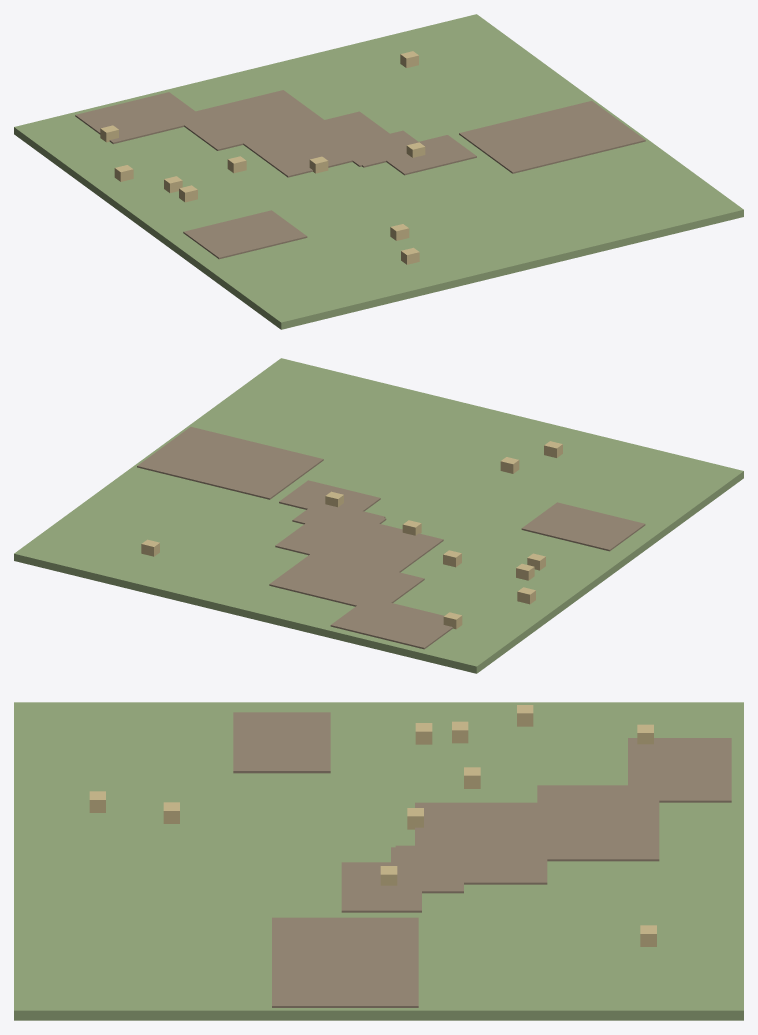
Rendered from tournament-ground-module.glb.
3 views of the same model, one above another, from view 1: azimuth 30°, elevation 25°; view 2: azimuth 150°, elevation 25°; view 3: azimuth 270°, elevation 25° (orthographic). The views are drawn at different scales.
Visible parts, largest first — view 1: tournament-ground-module; view 2: tournament-ground-module; view 3: tournament-ground-module.
Part boxes in pixels (left/top/right/bottom): tournament-ground-module: left=14, top=14, right=743, bottom=329; tournament-ground-module: left=14, top=358, right=743, bottom=673; tournament-ground-module: left=14, top=702, right=743, bottom=1020.
Size of the model in its own units: 8 by 0.2801 by 8.
